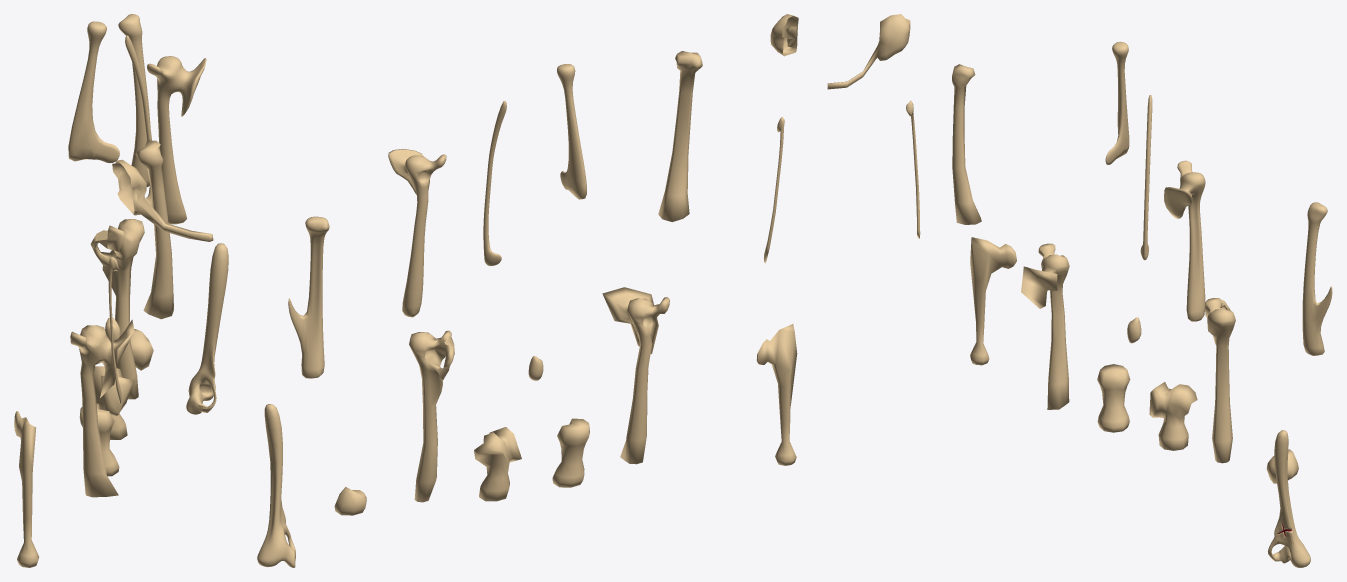
Rendered from bone collectionblend.glb.
The picture shows the model from 3 angles, left to right: view 1: azimuth 30°, elevation 25°; view 2: azimuth 150°, elevation 25°; view 3: azimuth 270°, elevation 25°; orthographic projection. The views are drawn at different scales.
Parts seen in each view (by area): view 1: Cube.005, Cube.016, Cube.011, Cube.006, Cube.004, Cube.018, Cube.001, Cube.008, Cube.017, Cube.010, Cube.009, Cube.003 (+2 smaller); view 2: Cube.005, Cube.011, Cube.006, Cube.016, Cube.017, Cube.004, Cube.001, Cube.010, Cube.018, Cube.009, Cube.003, Cube.008 (+1 smaller); view 3: Cube.005, Cube.016, Cube.011, Cube.006, Cube.001, Cube.017, Cube.004, Cube.010, Cube.009, Cube.008, Cube.018, Cube.003.
Boxes of the visible parts, box(x1,y1,x2,y2) form: Cube.005: box(70, 319, 134, 497); Cube.016: box(147, 56, 206, 224); Cube.011: box(90, 219, 144, 399); Cube.006: box(135, 140, 173, 319); Cube.004: box(186, 243, 228, 414); Cube.018: box(68, 21, 119, 163); Cube.001: box(14, 411, 38, 567); Cube.008: box(112, 159, 213, 241); Cube.017: box(118, 14, 150, 186); Cube.010: box(93, 366, 134, 439); Cube.009: box(79, 403, 119, 476); Cube.003: box(125, 35, 152, 206); Cube.005: box(602, 287, 669, 464); Cube.011: box(409, 330, 454, 502); Cube.006: box(658, 51, 702, 221); Cube.016: box(388, 149, 446, 317); Cube.017: box(288, 216, 329, 378); Cube.004: box(257, 404, 295, 567); Cube.001: box(756, 324, 797, 465); Cube.010: box(474, 427, 521, 501); Cube.018: box(557, 64, 586, 199); Cube.009: box(552, 418, 589, 487); Cube.003: box(483, 100, 506, 265); Cube.008: box(770, 14, 798, 56); Cube.005: box(1021, 243, 1069, 409); Cube.016: box(1164, 160, 1205, 321); Cube.011: box(1205, 298, 1235, 463); Cube.006: box(952, 64, 981, 224); Cube.001: box(970, 237, 1016, 365); Cube.017: box(1302, 202, 1332, 355); Cube.004: box(1268, 430, 1310, 567); Cube.010: box(1149, 382, 1197, 450); Cube.009: box(1097, 364, 1130, 432); Cube.008: box(827, 14, 910, 89); Cube.018: box(1105, 41, 1129, 164); Cube.003: box(1140, 95, 1152, 260).
Bounding box in the file's own units: 19.61 × 24.77 × 25.93.
